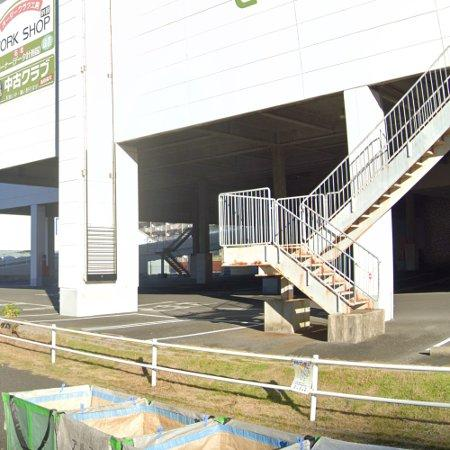stairs: (280, 47, 450, 261), (224, 245, 377, 315)
